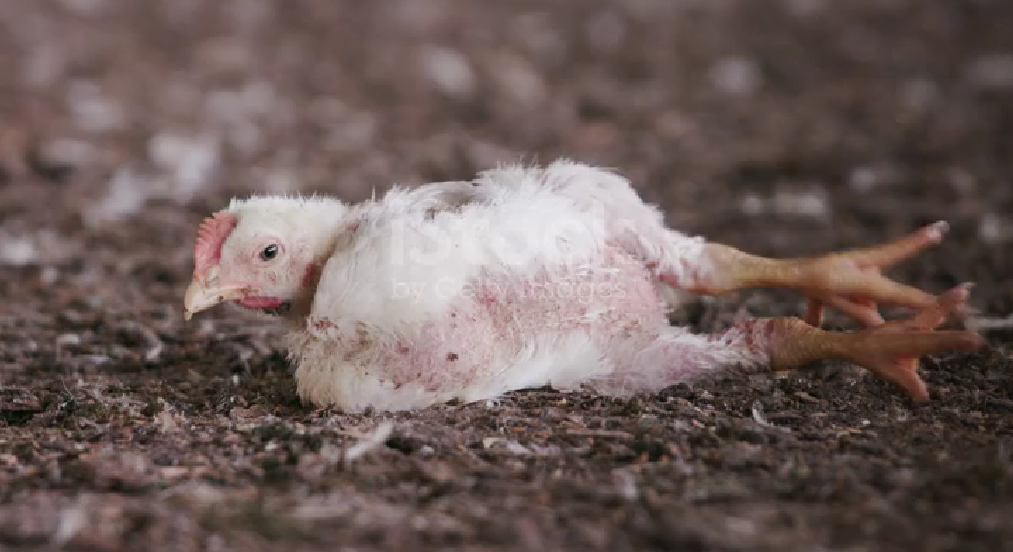Unhealthy: (163, 158, 980, 415)
